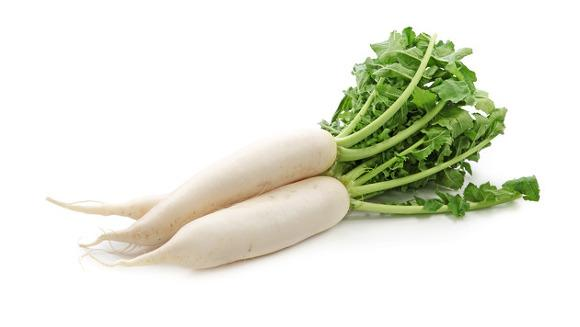radish: (98, 69, 306, 120), (103, 94, 320, 138)
